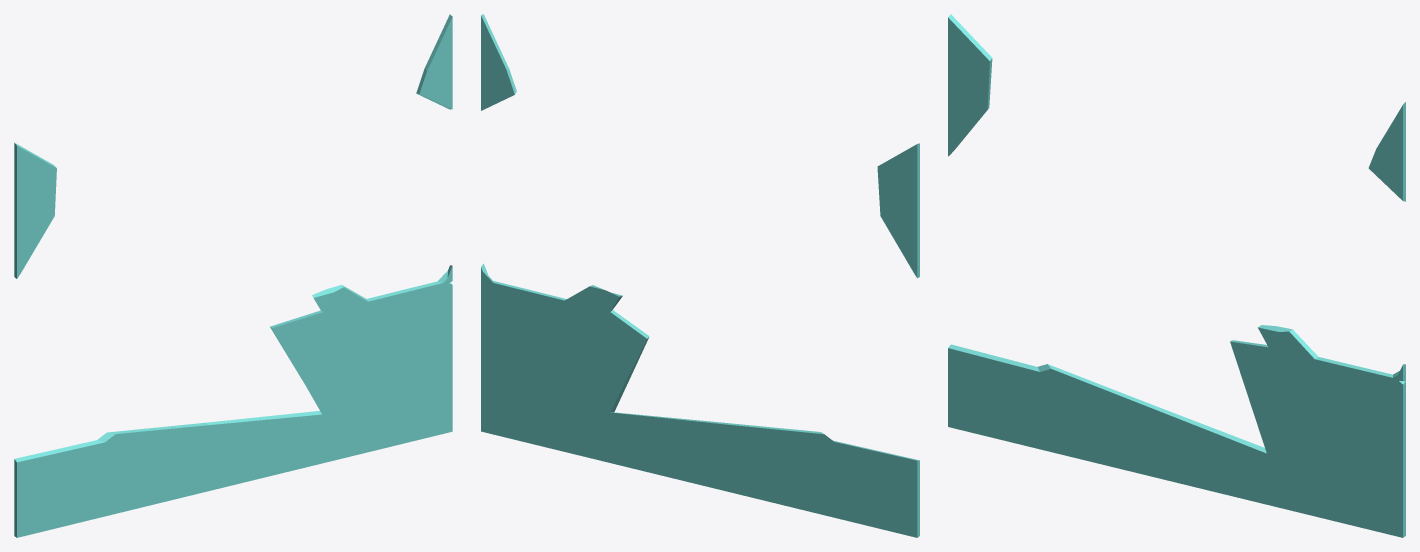
Rendered from Glass Destroyed E.fbx.
3 views of the same model, side by side, from view 1: azimuth 30°, elevation 25°; view 2: azimuth 150°, elevation 25°; view 3: azimuth 330°, elevation 25° (orthographic). The views are drawn at different scales.
Parts seen in each view (by area): view 1: Glass Destroyed E; view 2: Glass Destroyed E; view 3: Glass Destroyed E.
Part boxes in pixels (left/top/right/bottom): Glass Destroyed E: left=14, top=14, right=452, bottom=537; Glass Destroyed E: left=481, top=14, right=919, bottom=537; Glass Destroyed E: left=948, top=14, right=1405, bottom=537.
Bounding box in the file's own units: 0.945 × 0.8617 × 0.037.
